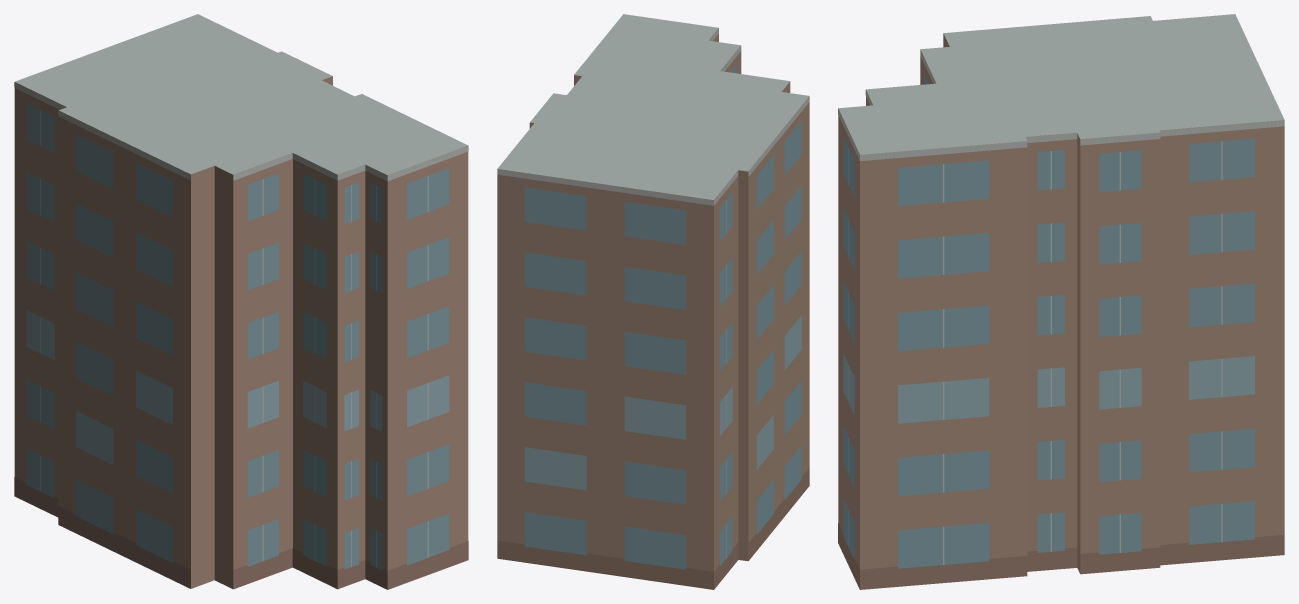
Rendered from survey-upis-32658960.glb.
3 renders of one model, left to right at view 1: azimuth 30°, elevation 25°; view 2: azimuth 150°, elevation 25°; view 3: azimuth 270°, elevation 25°, orthographic. The views are drawn at different scales.
Visible parts, largest first — view 1: survey-upis-32658960.tmp; view 2: survey-upis-32658960.tmp; view 3: survey-upis-32658960.tmp.
Boxes of the visible parts, left/top/right/bottom form: survey-upis-32658960.tmp: left=14, top=14, right=468, bottom=589; survey-upis-32658960.tmp: left=497, top=14, right=809, bottom=589; survey-upis-32658960.tmp: left=838, top=14, right=1284, bottom=589.
Size of the model in its own units: 11.68 by 16.8 by 15.63.
